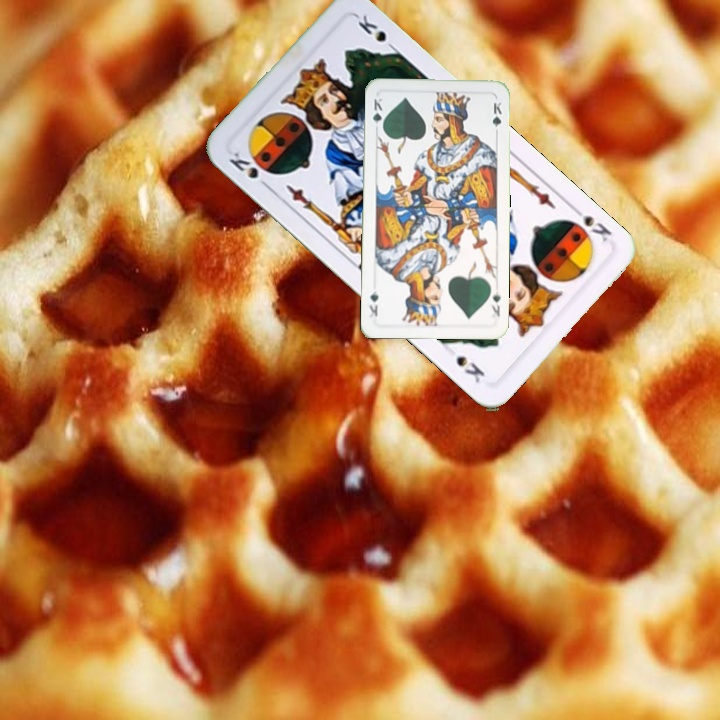GK: (369, 94, 385, 133), (486, 287, 503, 320)
SK: (225, 147, 275, 193), (567, 202, 615, 245)
